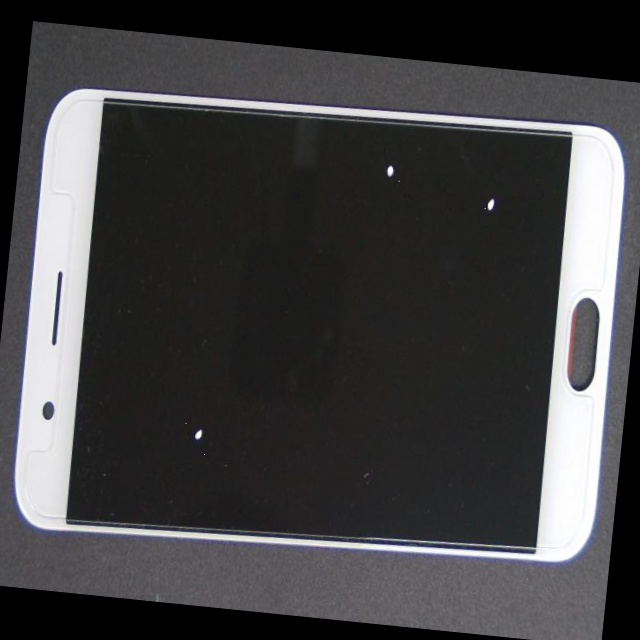stain: (74, 189, 307, 613), (231, 131, 640, 347), (180, 107, 534, 280)
